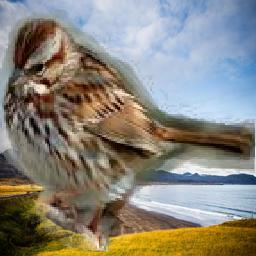Sparrow: (1, 10, 256, 252)
